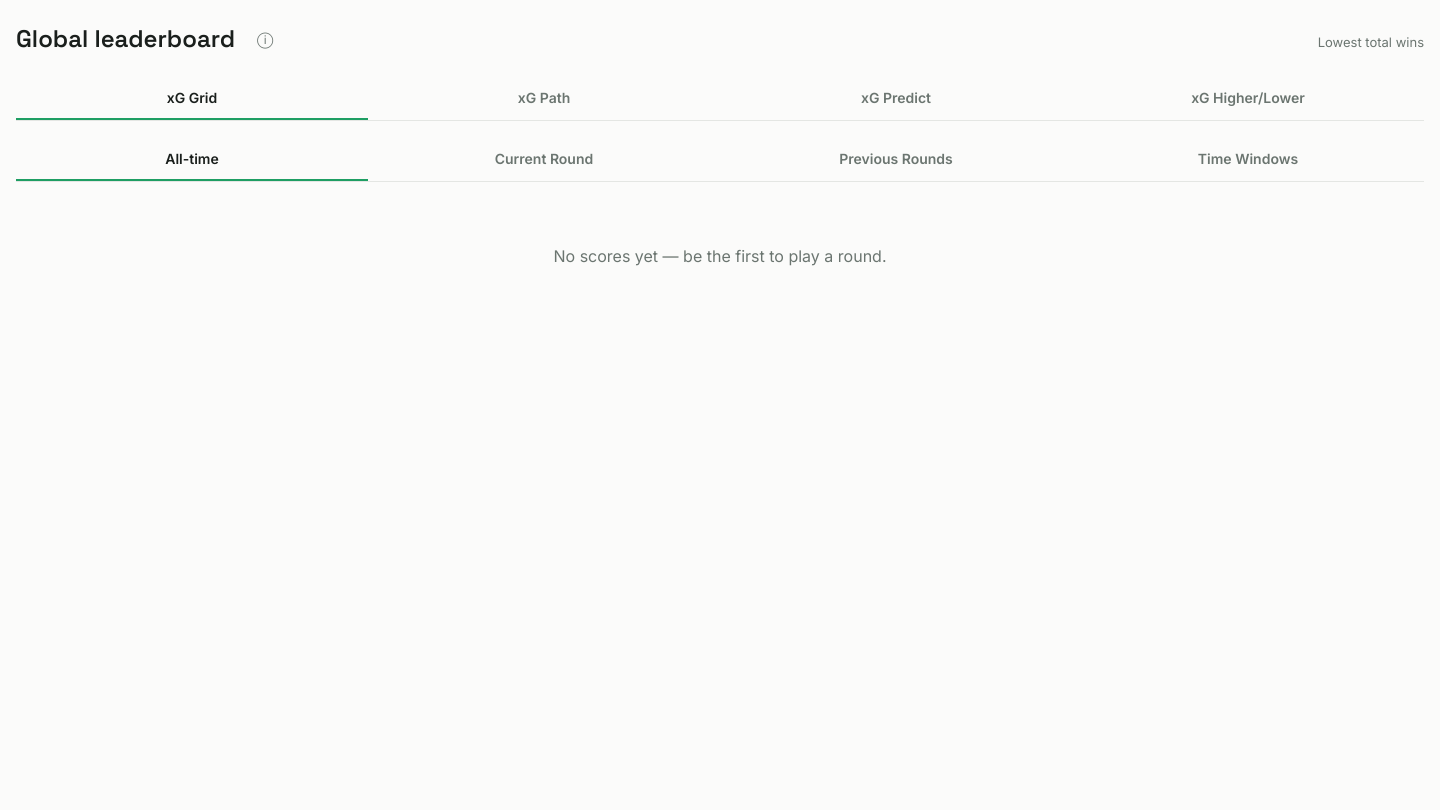
Test: LeaderboardScreen › scoring explainer entry point › REQ-213: opens regardless of which scope tab is active — "Time Windows"
Check: the text "No scores yet — be the first to play a round." is shown, box [554,246,886,266]
Click the tab "Time Windows" at (1248, 159), box [1072,137,1424,181]
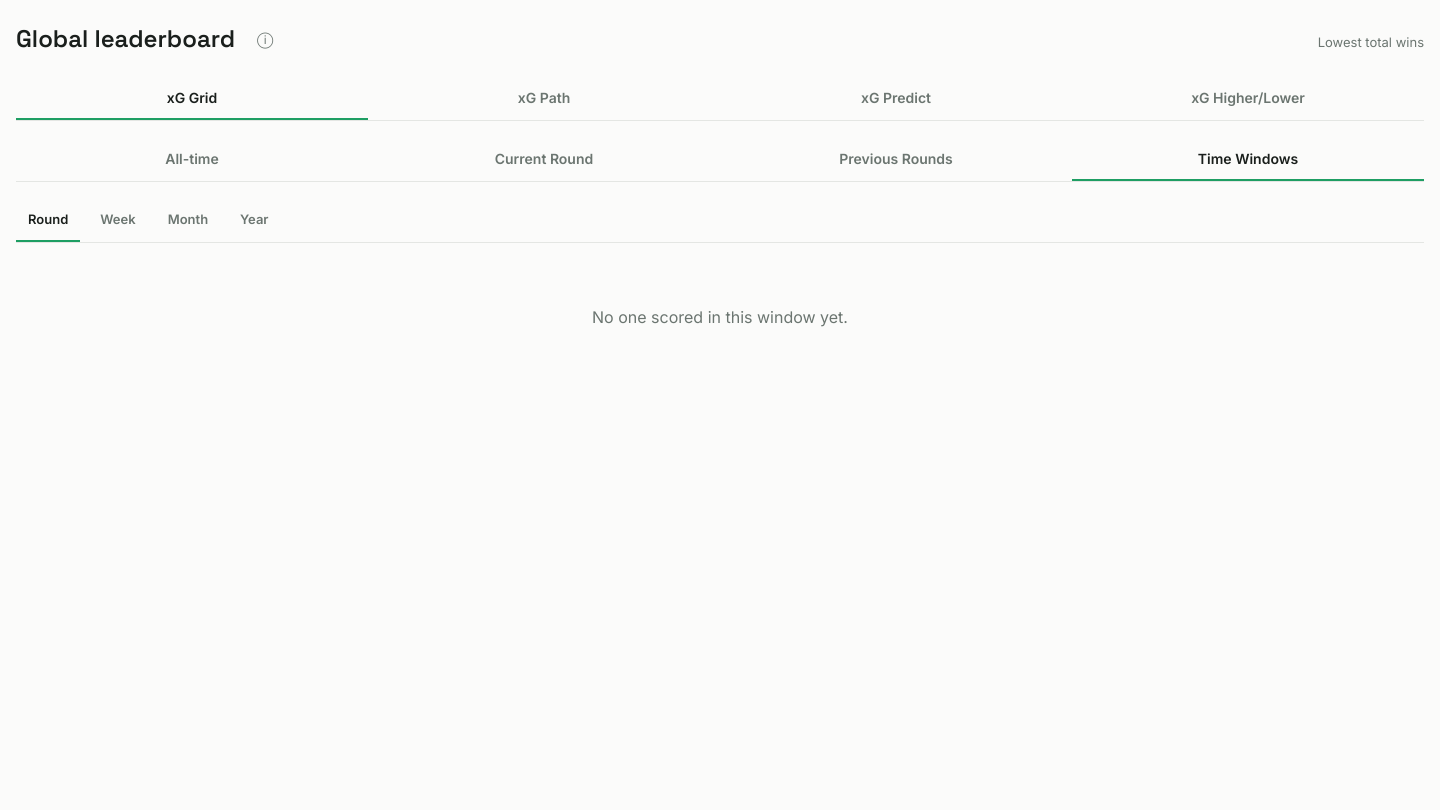
Check: the text "No one scored in this window yet." is shown, box [592,307,848,327]
Click the button named "How scoring works" at (265, 38), box [243,16,287,60]
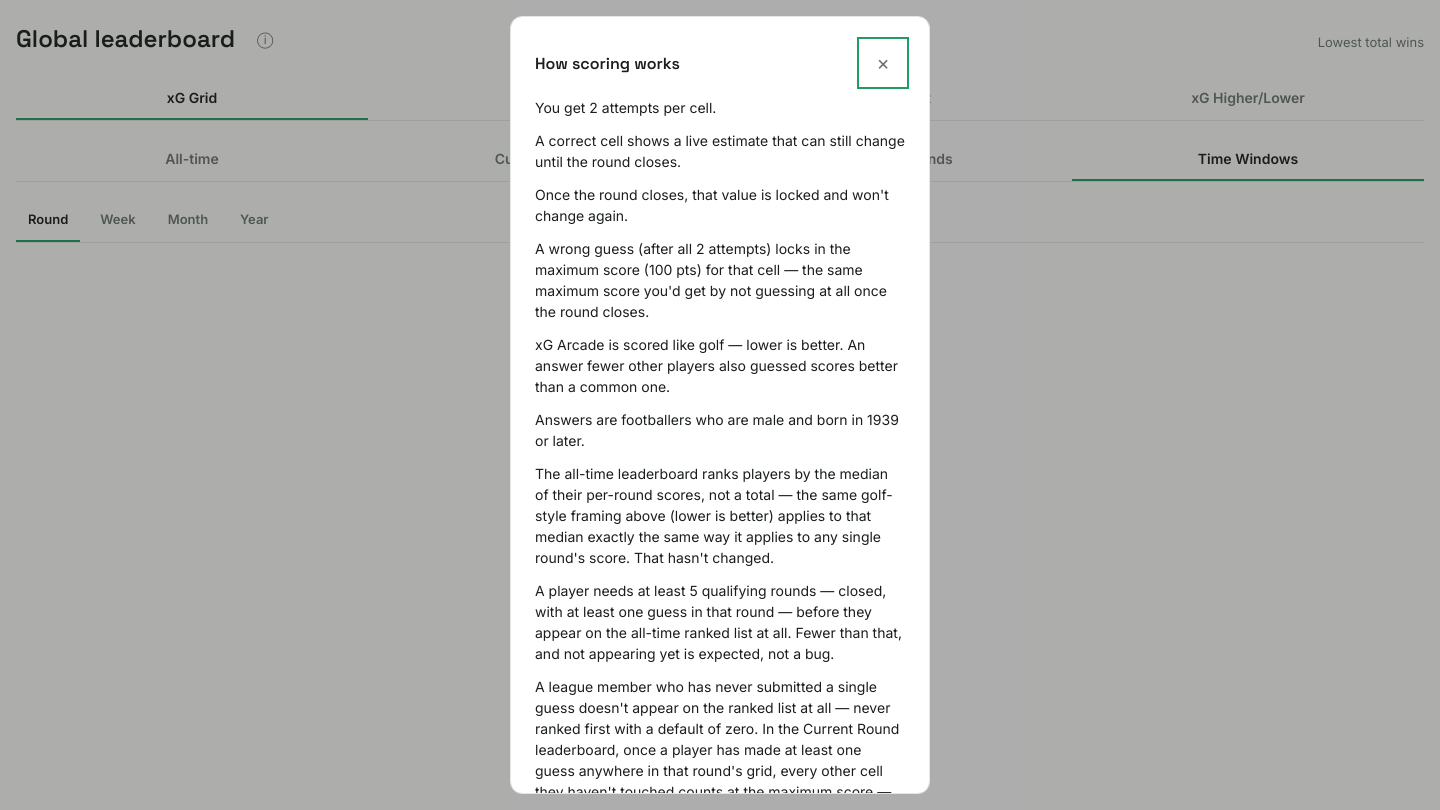
Check: the dialog "How scoring works" is shown, box [510,16,930,794]
